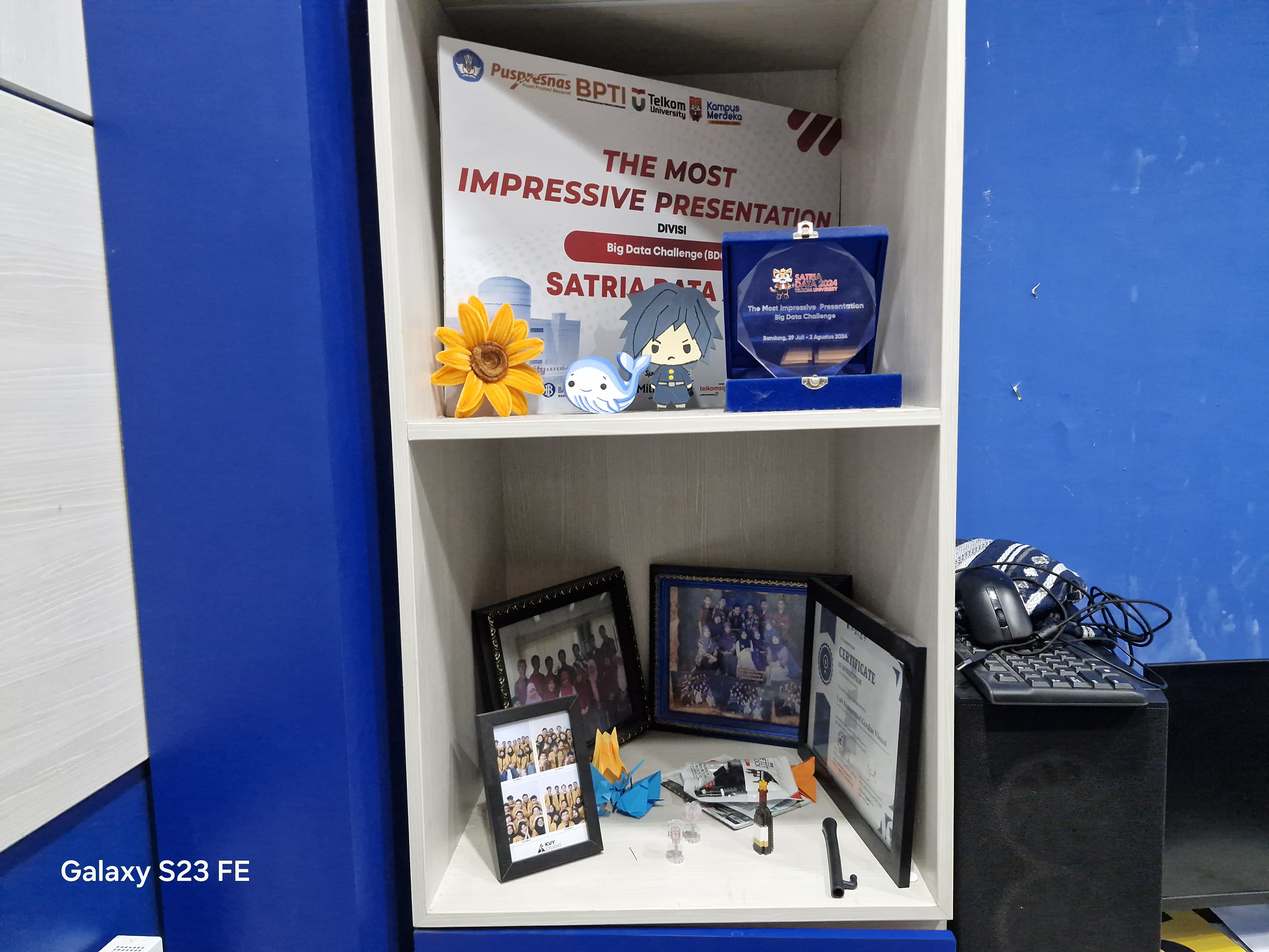bottle: (753, 770, 773, 854)
cabinet-merged: (0, 0, 139, 827)
flower: (431, 296, 543, 417)
keyboard: (956, 637, 1158, 706)
mouse: (956, 566, 1031, 648)
shelf: (378, 0, 960, 938)
toy: (622, 282, 720, 409), (565, 351, 650, 413)
wall-other-merged: (0, 0, 404, 951), (960, 0, 1268, 657)
